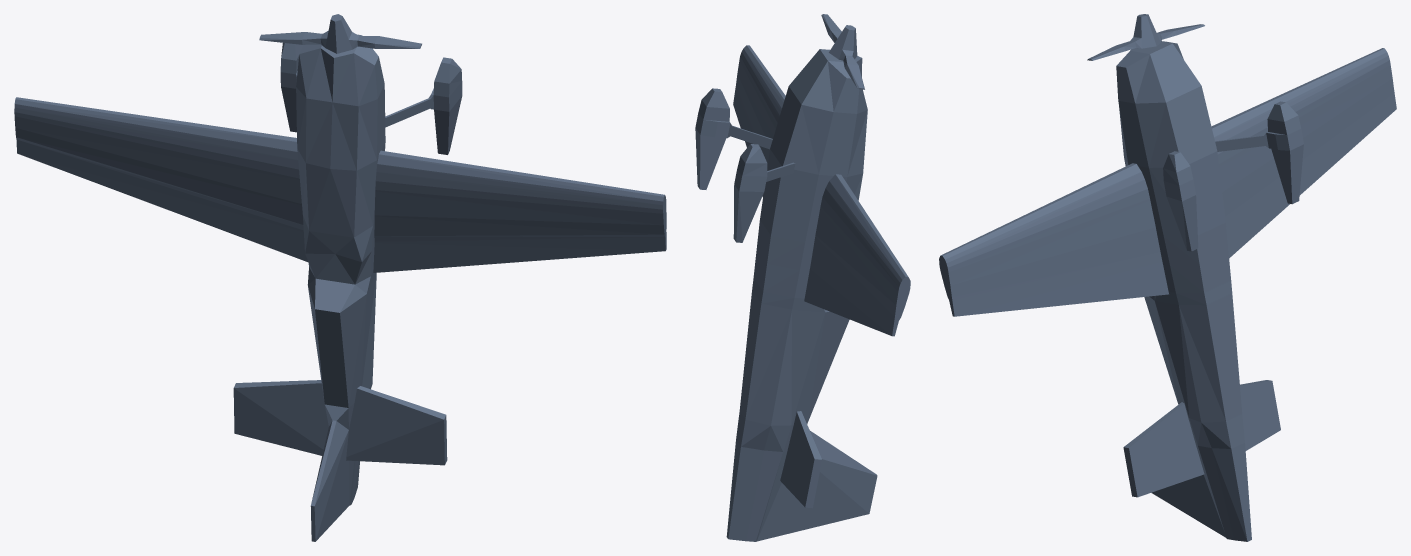
3 renders of one model, left to right at view 1: azimuth 30°, elevation 25°; view 2: azimuth 150°, elevation 25°; view 3: azimuth 270°, elevation 25°, orthographic. The views are drawn at different scales.
Visible parts, largest first — view 1: plane; view 2: plane; view 3: plane.
Boxes of the visible parts, left/top/right/bottom form: plane: left=14, top=14, right=666, bottom=541; plane: left=695, top=14, right=910, bottom=541; plane: left=939, top=14, right=1396, bottom=541.
Bounding box in the file's own units: 0.305 × 0.3704 × 0.3086.
